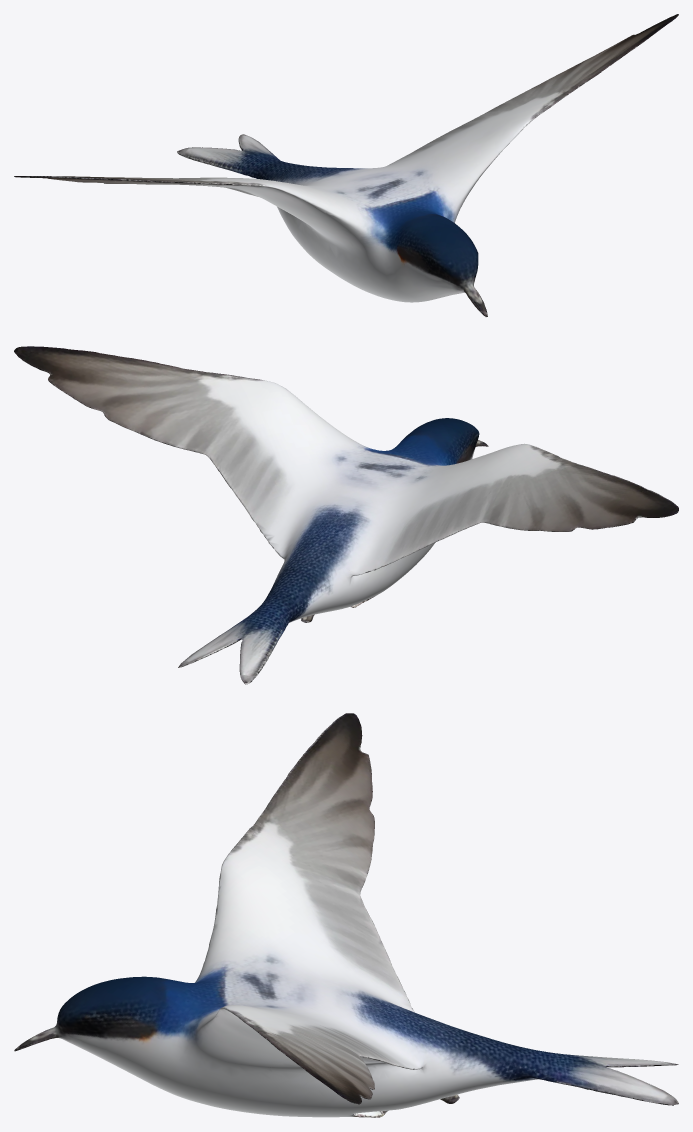
Rendered from swallow_flight.glb.
The picture shows the model from 3 angles, top to bottom: view 1: azimuth 30°, elevation 25°; view 2: azimuth 150°, elevation 25°; view 3: azimuth 270°, elevation 25°; orthographic projection. The views are drawn at different scales.
Parts seen in each view (by area): view 1: model; view 2: model; view 3: model.
Boxes of the visible parts, x1=… form: model: x1=14, y1=14, x2=678, y2=316; model: x1=14, y1=346, x2=678, y2=684; model: x1=14, y1=713, x2=678, y2=1117.
Bounding box in the file's own units: 1.9 × 0.4622 × 1.37.
1 material, 1 textured.
